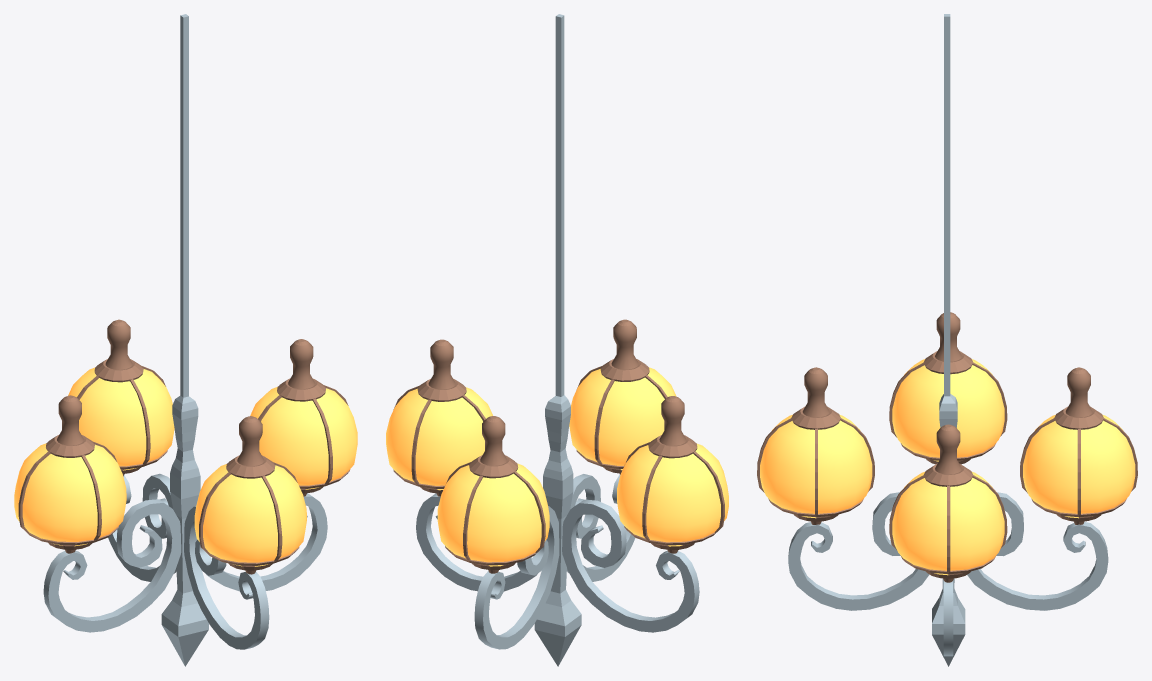
The model's file is BC_InsideTopLamp.fbx.
3 renders of one model, left to right at view 1: azimuth 30°, elevation 25°; view 2: azimuth 150°, elevation 25°; view 3: azimuth 270°, elevation 25°, orthographic.
Visible parts, largest first — view 1: BC_InsideTopLamp; view 2: BC_InsideTopLamp; view 3: BC_InsideTopLamp.
Boxes of the visible parts, bbox=[...] form: BC_InsideTopLamp: bbox=[14, 14, 357, 666]; BC_InsideTopLamp: bbox=[386, 14, 728, 666]; BC_InsideTopLamp: bbox=[757, 14, 1137, 666].
Bounding box in the file's own units: 476 × 889 × 471.
